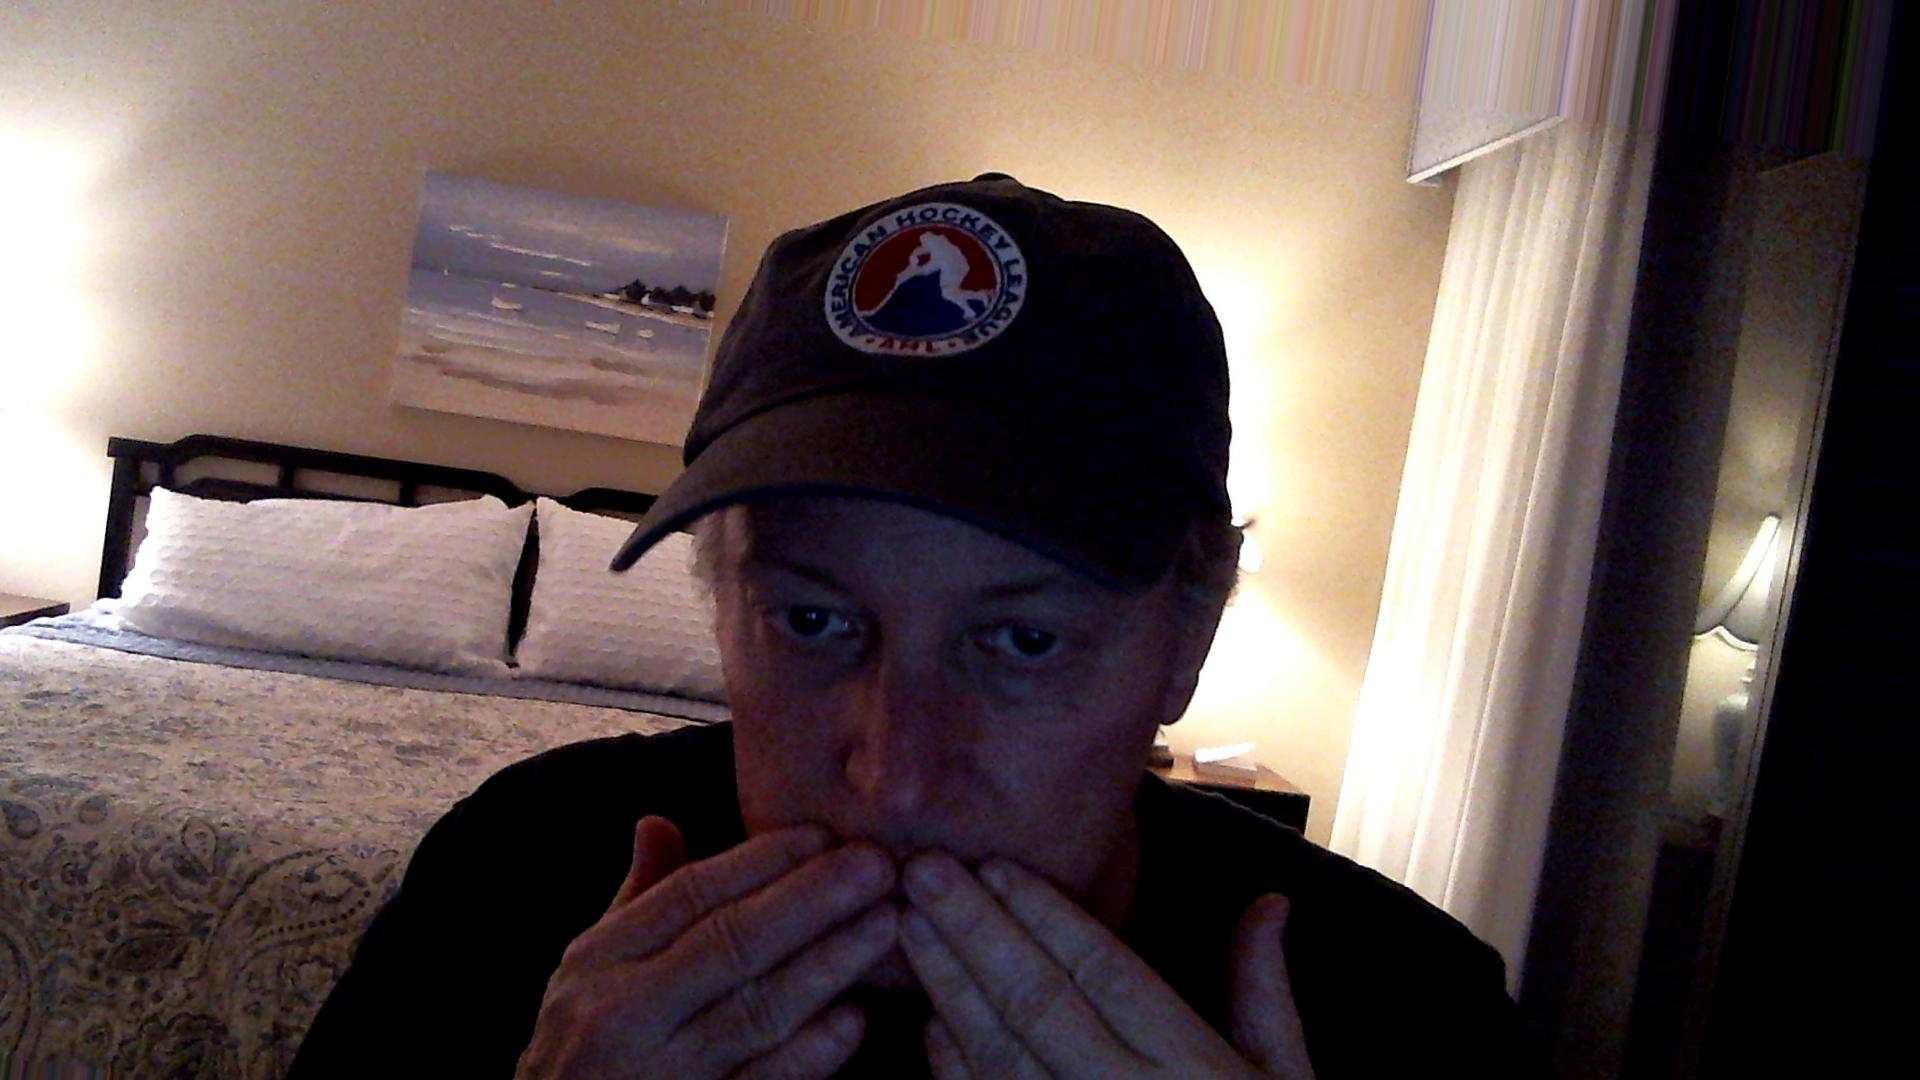Thank You: (483, 770, 1377, 1080)
